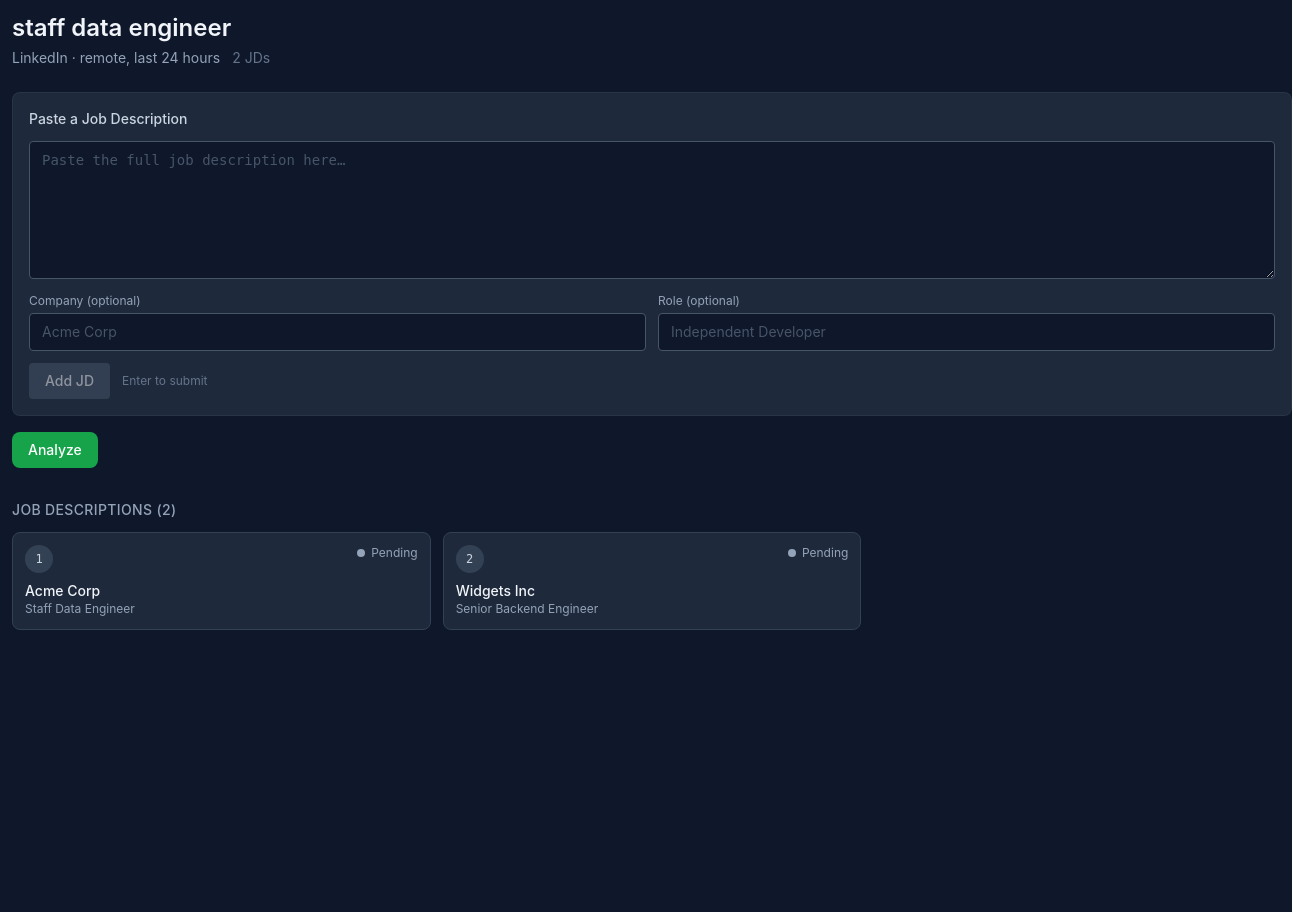
Test: SessionDetailPage — Analyze button › shows red error banner with retry on unexpected errors
The width and height of the screenshot is (1292, 912).
Click the button with test id "analyze-button". click: x=55, y=450
box: [12, 432, 98, 468]
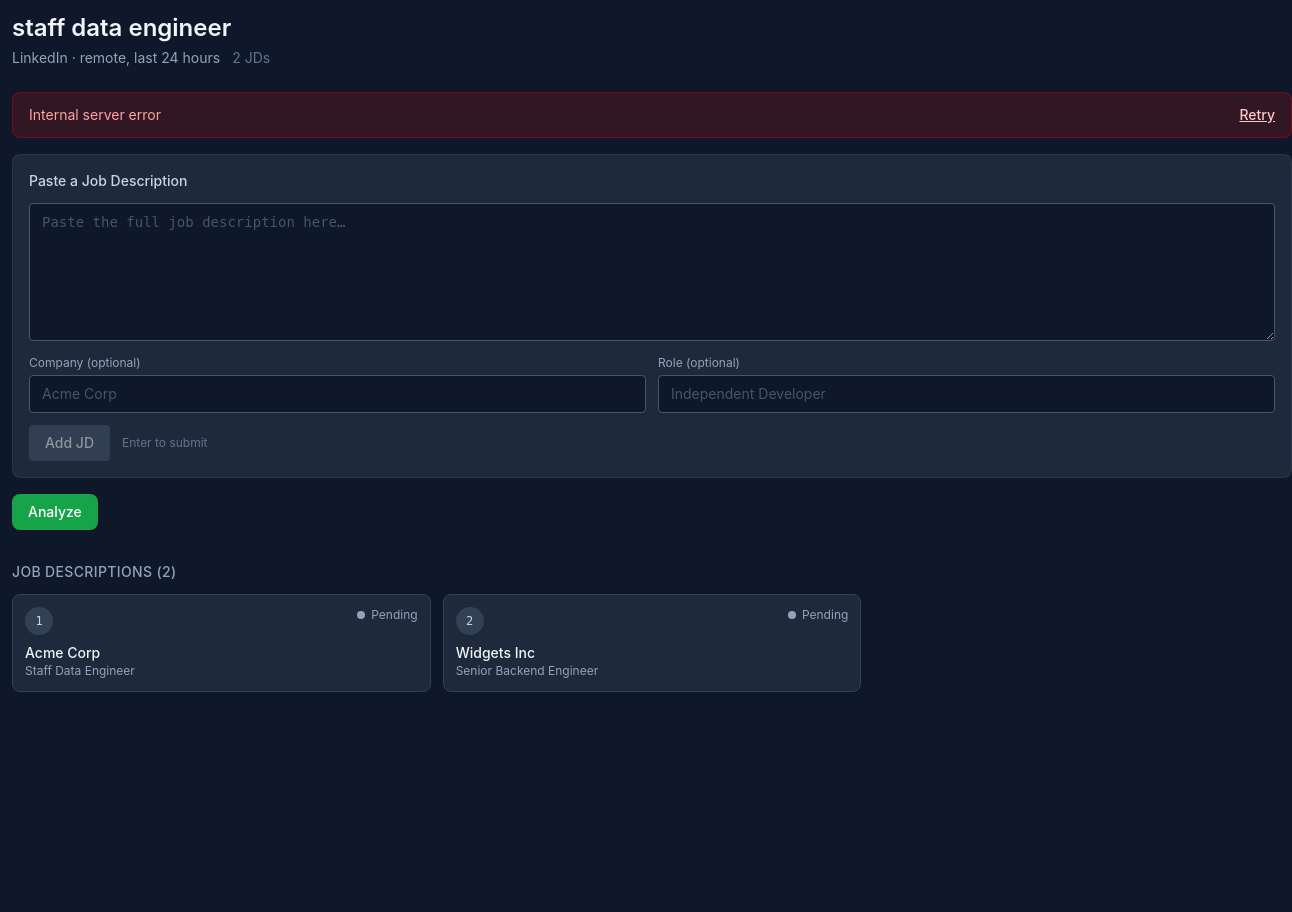
Now the element with test id "error-banner" is shown, box [12, 92, 1291, 138]
Now the text "Internal server error" is shown, box [29, 105, 161, 125]
Now the button "Retry" is shown, box [1239, 105, 1275, 125]
